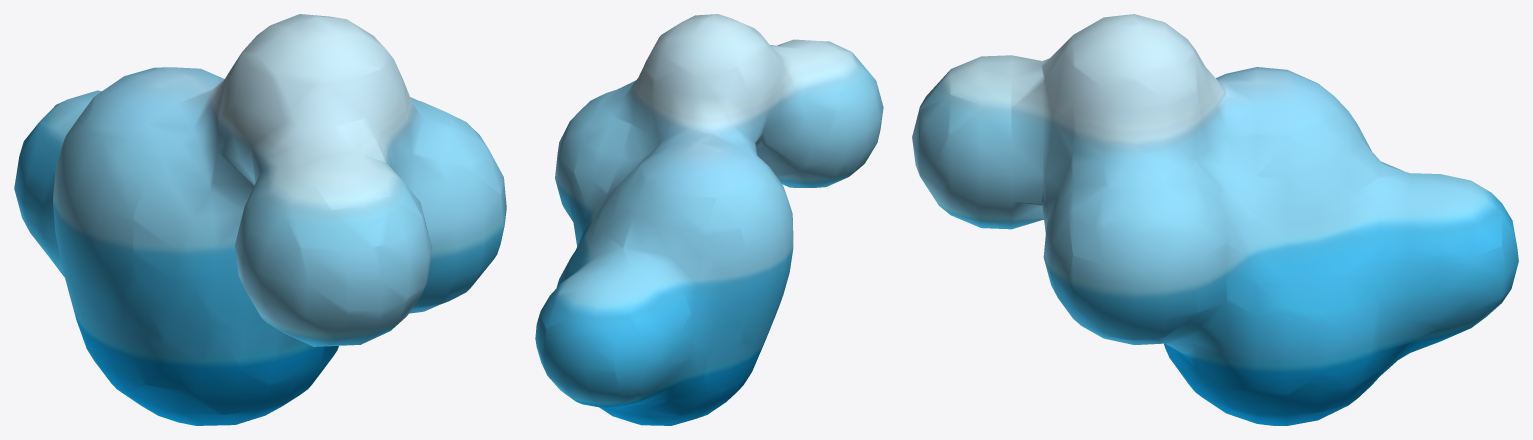
Rendered from cloud.fbx.
The picture shows the model from 3 angles, left to right: view 1: azimuth 30°, elevation 25°; view 2: azimuth 150°, elevation 25°; view 3: azimuth 270°, elevation 25°; orthographic projection. The views are drawn at different scales.
Parts seen in each view (by area): view 1: Plane.005; view 2: Plane.005; view 3: Plane.005.
Boxes of the visible parts, x1,y1,x2,y2 form: Plane.005: (14,14,506,425); Plane.005: (535,14,883,425); Plane.005: (912,14,1518,425).
Size of the model in its own units: 79.51 by 97.06 by 133.
Materials: 1 (1 with a texture image).
